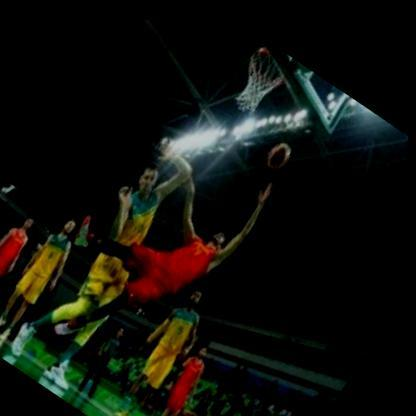basketball: (263, 127, 298, 167)
